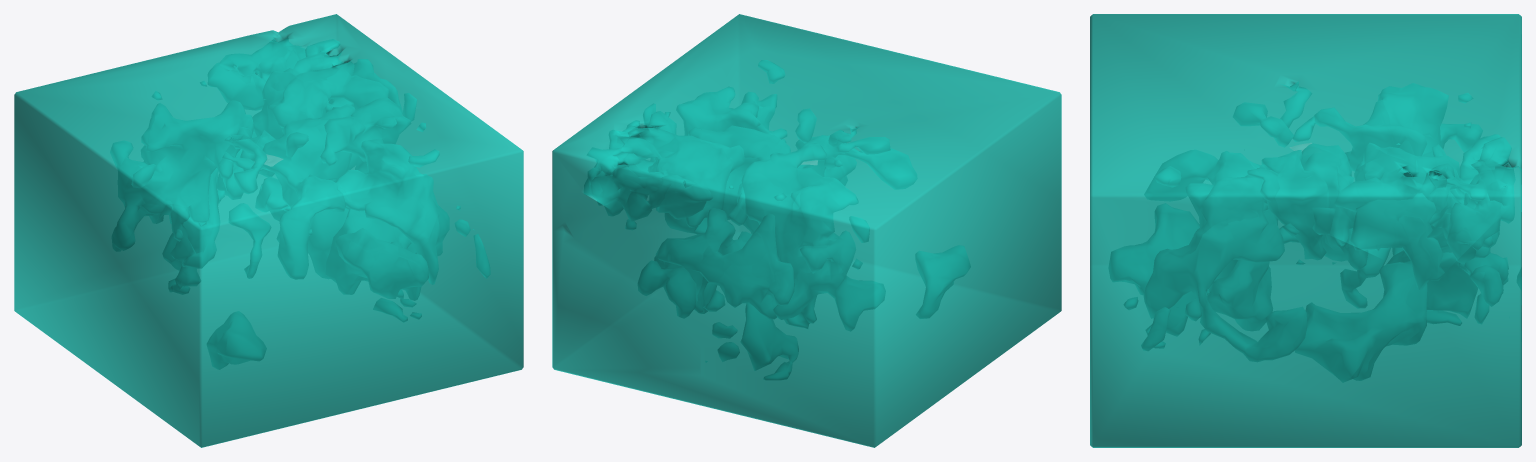
The picture shows the model from 3 angles, left to right: view 1: azimuth 30°, elevation 25°; view 2: azimuth 150°, elevation 25°; view 3: azimuth 270°, elevation 25°; orthographic projection. The views are drawn at different scales.
Visible parts, largest first — view 1: Liquid_Domain; view 2: Liquid_Domain; view 3: Liquid_Domain.
Boxes of the visible parts, left/top/right/bottom form: Liquid_Domain: left=14, top=14, right=523, bottom=447; Liquid_Domain: left=552, top=14, right=1061, bottom=447; Liquid_Domain: left=1090, top=14, right=1521, bottom=447.
Size of the model in its own units: 391 by 254 by 391.
